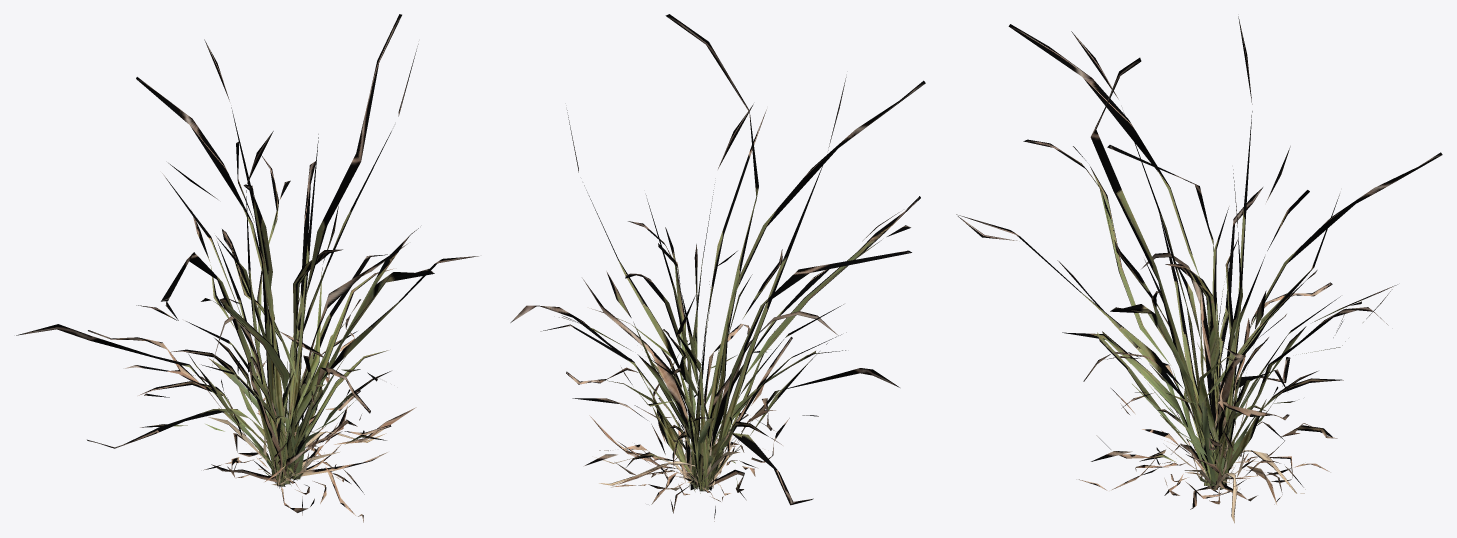
File: grass_b.glb
3 views of the same model, side by side, from view 1: azimuth 30°, elevation 25°; view 2: azimuth 150°, elevation 25°; view 3: azimuth 270°, elevation 25° (orthographic). The views are drawn at different scales.
Visible parts, largest first — view 1: grass_medium_02_d; view 2: grass_medium_02_d; view 3: grass_medium_02_d.
Part boxes in pixels (box(x1,y1,x2,y2)): grass_medium_02_d: box(16, 14, 478, 522); grass_medium_02_d: box(510, 14, 925, 521); grass_medium_02_d: box(956, 16, 1442, 523).
Size of the model in its own units: 0.3549 by 0.4195 by 0.3972.
Materials: 1 (1 with a texture image).
